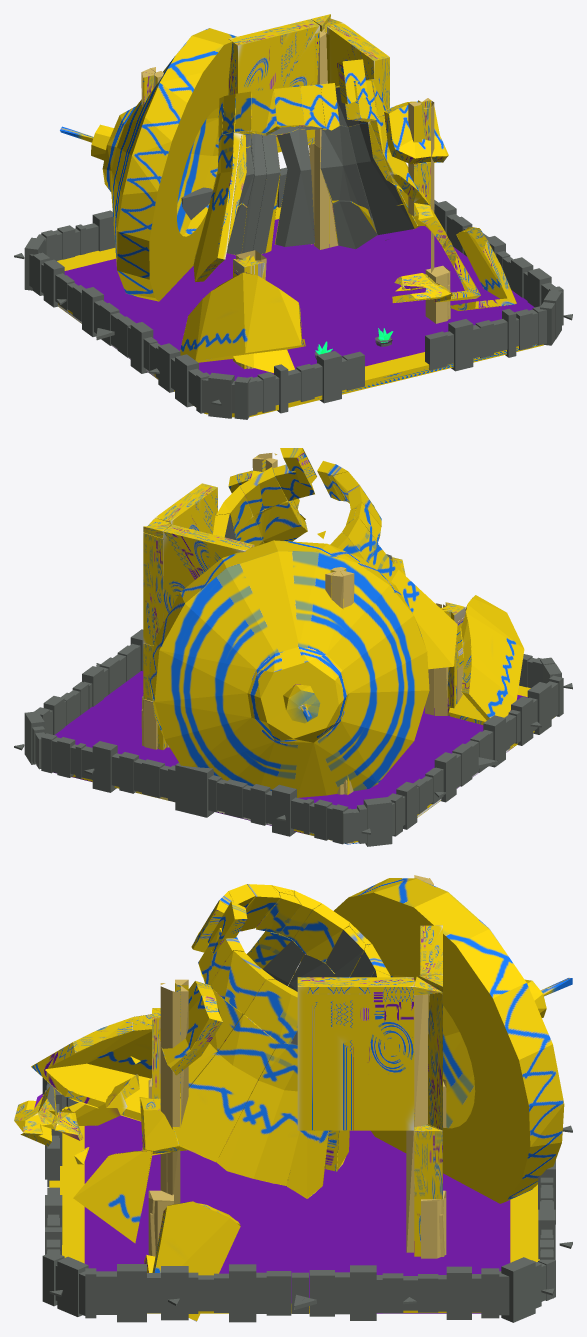
File: Broken town hall.fbx
3 renders of one model, top to bottom at view 1: azimuth 30°, elevation 25°; view 2: azimuth 150°, elevation 25°; view 3: azimuth 270°, elevation 25°, orthographic. The views are drawn at different scales.
Visible parts, largest first — view 1: Broken town hall; view 2: Broken town hall; view 3: Broken town hall.
Part boxes in pixels (x1,y1,x2,y2): Broken town hall: (14,14,572,419); Broken town hall: (14,448,572,846); Broken town hall: (14,875,572,1322).
Size of the model in its own units: 320 by 211 by 313.
4 materials, 1 textured.
